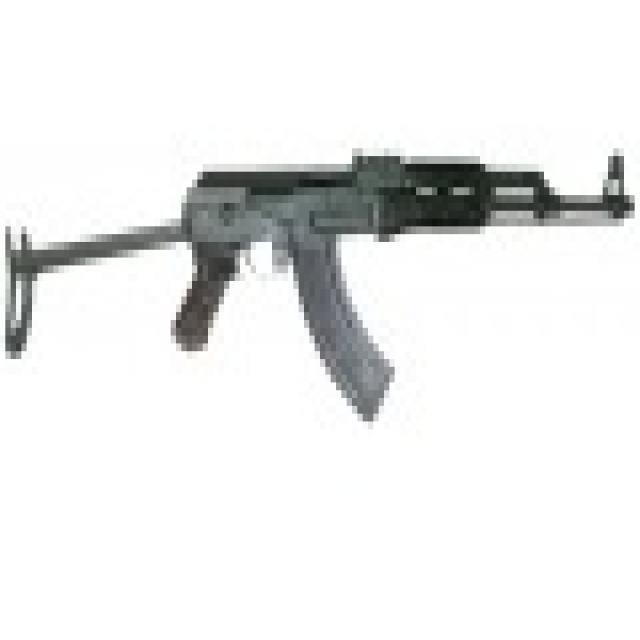Gun: (33, 92, 623, 395)
